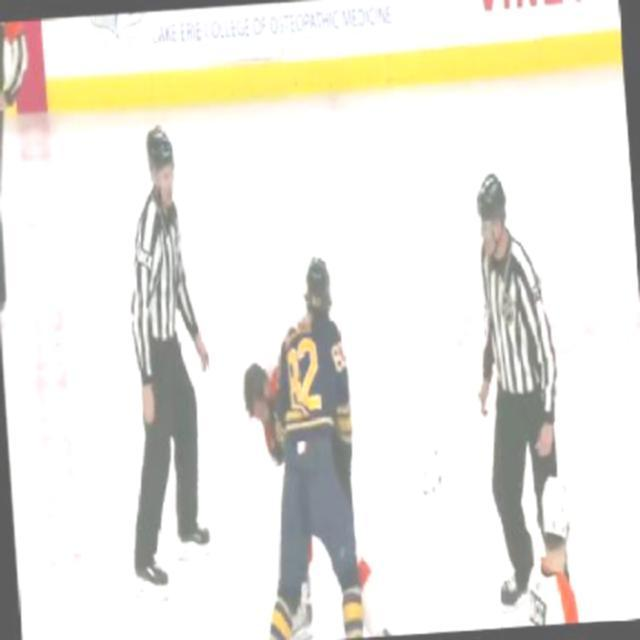fight: (230, 244, 390, 638)
non-fight: (102, 120, 216, 596), (464, 170, 576, 610)
